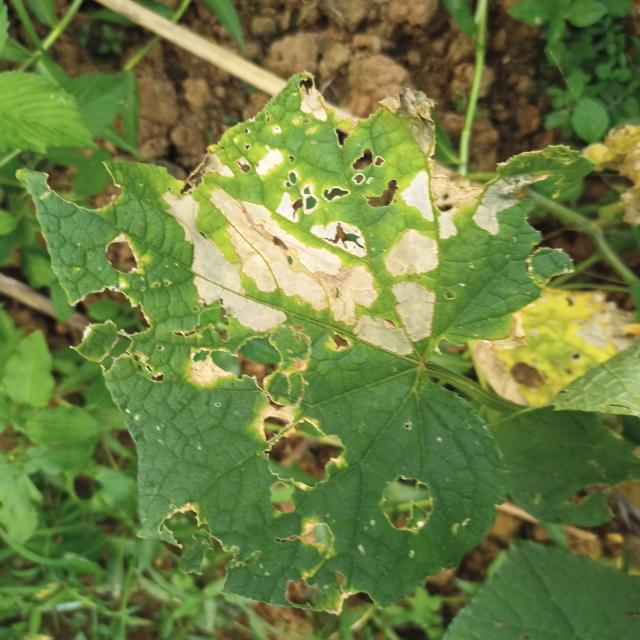disease_cucumber: (155, 110, 534, 358), (86, 238, 339, 543)
